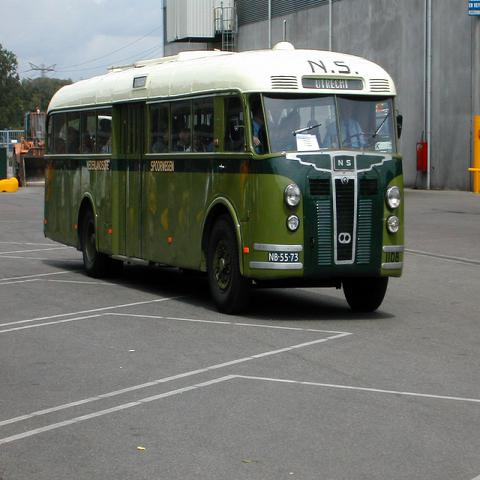bus: (44, 43, 405, 317)
